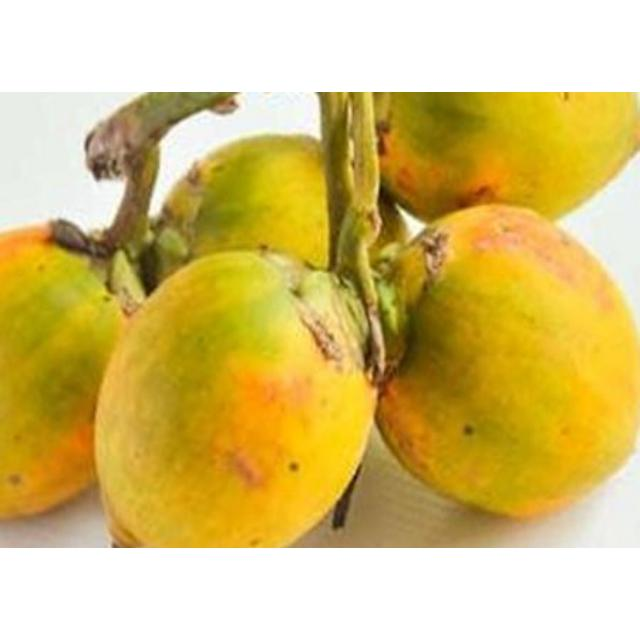good: (369, 204, 639, 518), (94, 249, 370, 547), (0, 222, 130, 520), (372, 94, 638, 224), (156, 132, 360, 278)
